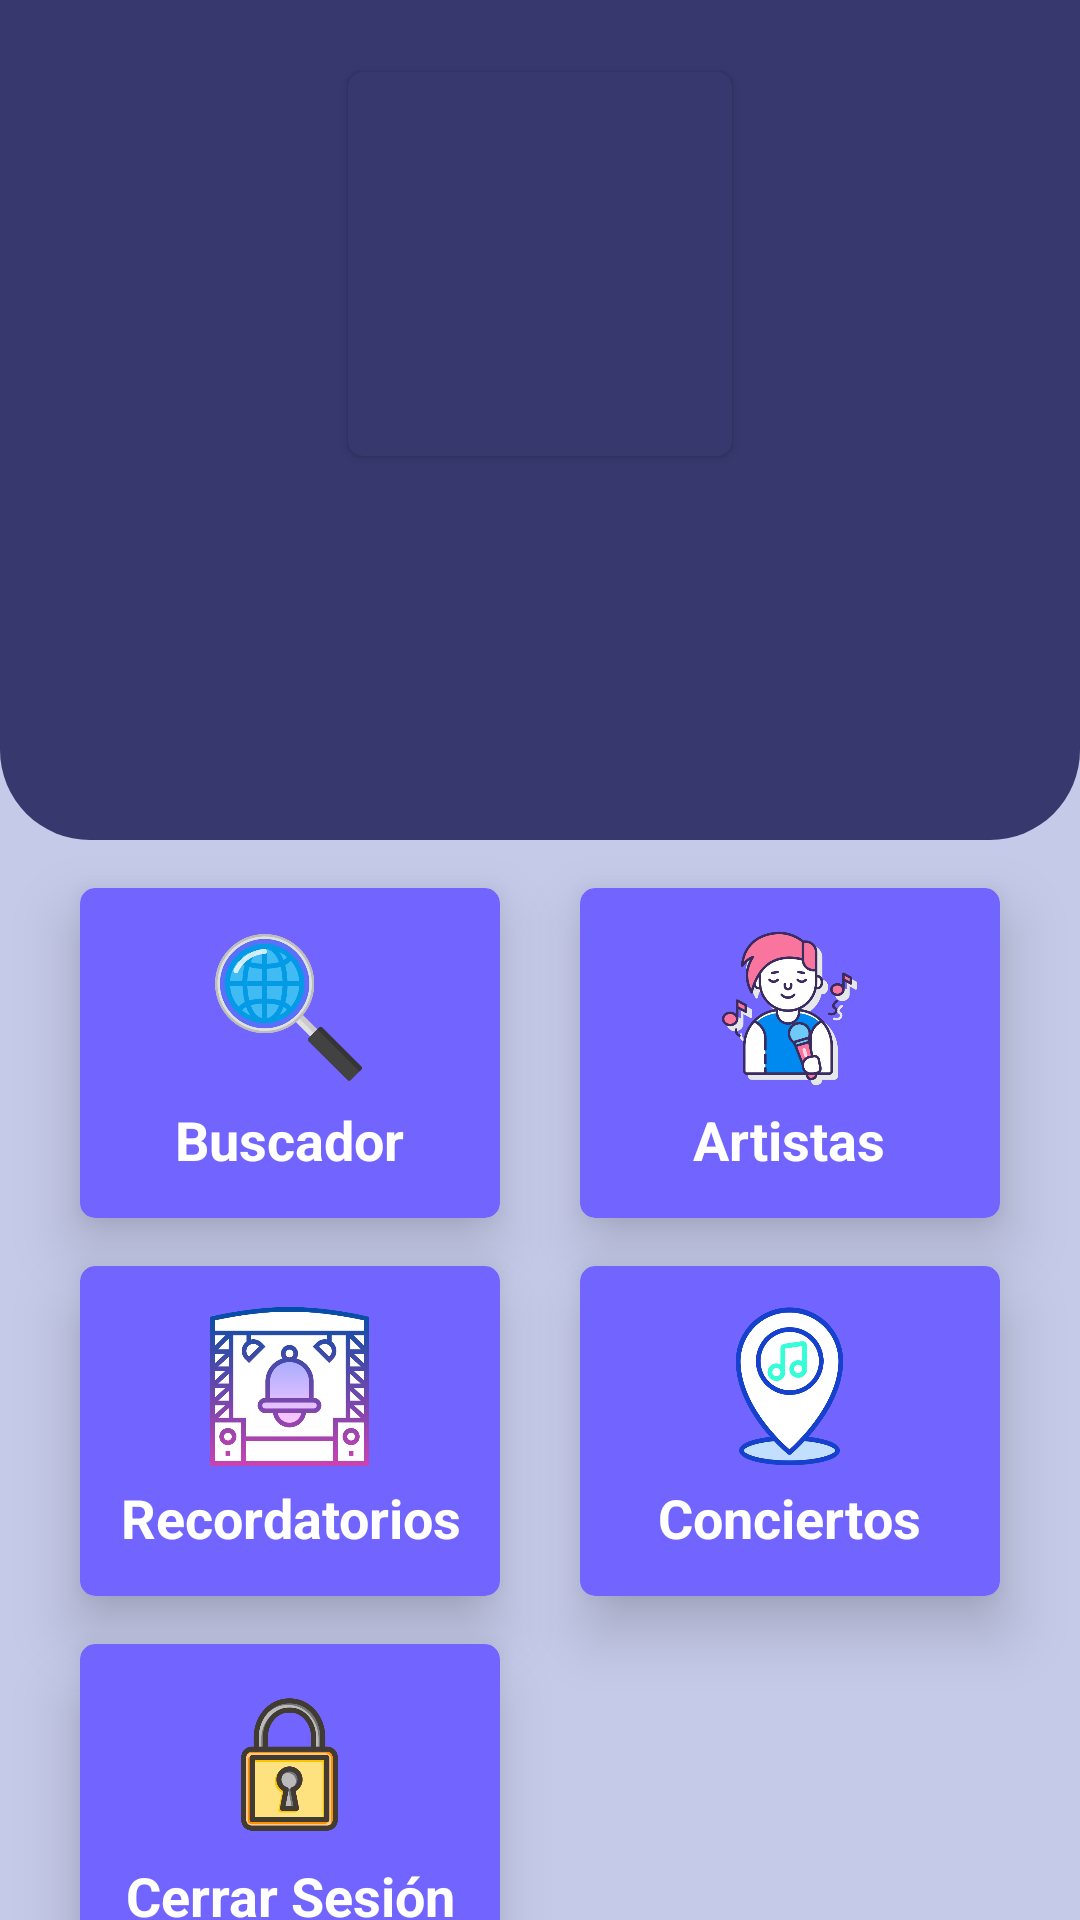

Locate icon controls on the screen. Image size 1080px×1920px, boxes as bbox(x1, y1, x2, y2).
cantante: bbox(722, 932, 857, 1085)
cerrado: bbox(241, 1698, 338, 1831)
concierto: bbox(210, 1307, 369, 1466)
